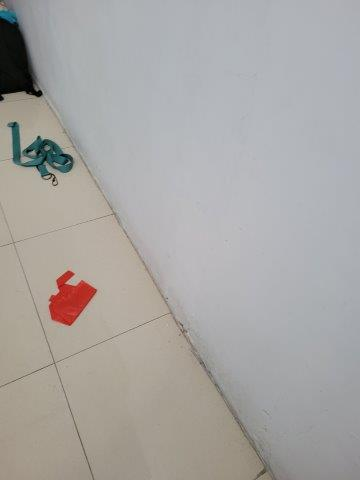plastik: (48, 270, 99, 325)
